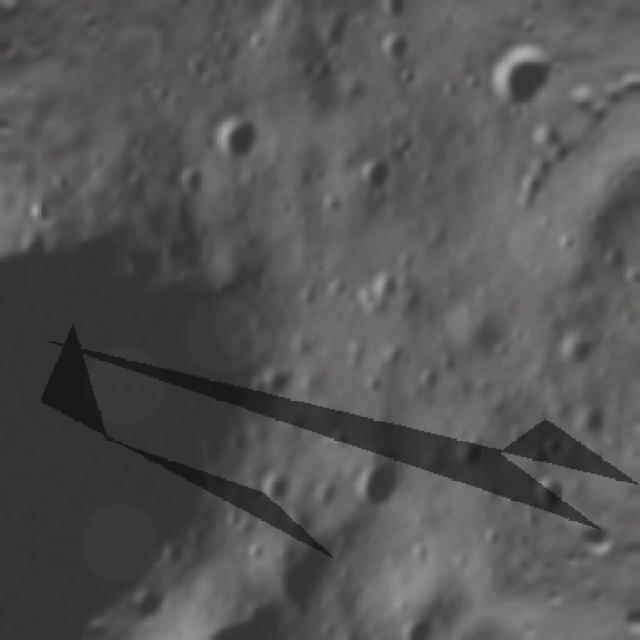crater: (0, 111, 357, 595), (179, 563, 312, 640), (432, 280, 528, 377), (336, 436, 426, 527), (201, 93, 284, 176), (474, 50, 551, 127), (556, 382, 627, 452), (354, 253, 423, 322), (348, 134, 414, 200), (298, 458, 364, 524), (307, 0, 373, 62), (248, 448, 309, 510), (552, 315, 613, 377), (407, 427, 464, 484), (254, 351, 309, 406), (525, 464, 580, 519), (384, 117, 438, 171), (173, 153, 224, 204), (20, 179, 71, 230), (371, 18, 422, 68), (448, 424, 498, 474), (411, 352, 458, 400), (339, 324, 387, 371), (378, 331, 425, 378), (525, 109, 572, 156), (594, 235, 640, 282), (394, 604, 453, 640), (510, 157, 556, 203), (318, 412, 364, 458), (15, 212, 60, 258), (214, 492, 258, 537), (314, 182, 358, 226), (389, 53, 431, 96), (292, 46, 334, 88), (551, 221, 591, 261), (373, 0, 424, 31), (243, 534, 282, 572), (244, 24, 282, 62), (615, 247, 640, 299), (124, 160, 158, 194), (51, 164, 85, 198), (537, 429, 571, 463), (209, 19, 240, 50), (279, 623, 326, 640), (307, 253, 333, 279), (356, 634, 422, 640)
